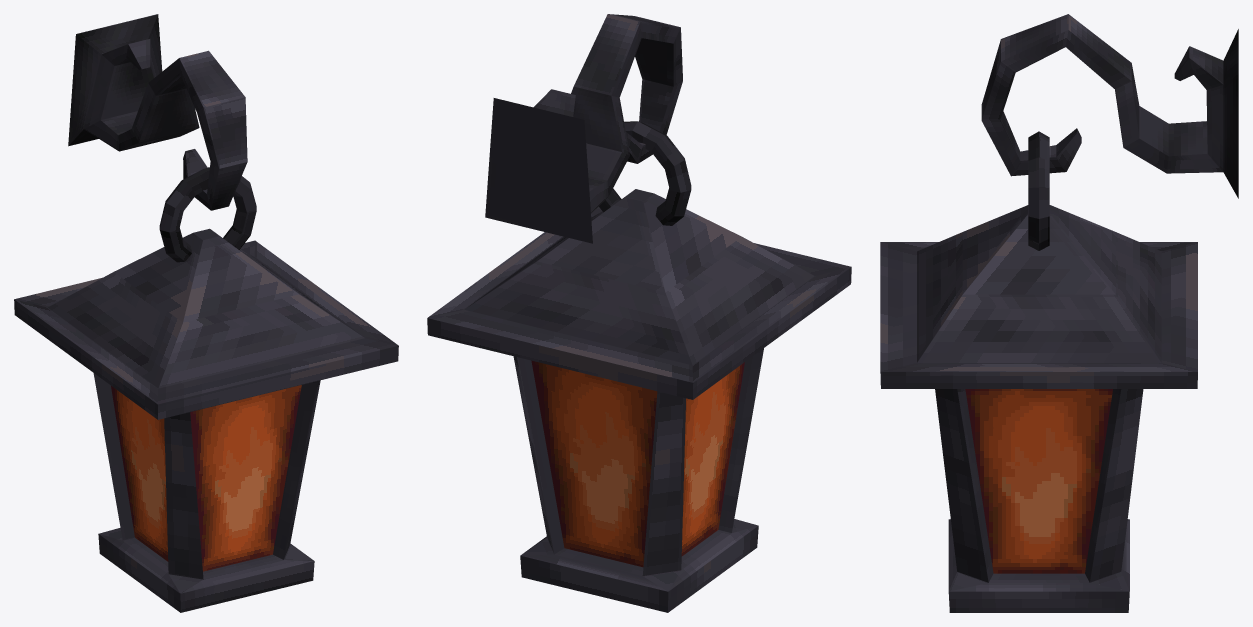
File: tavern_wall_lantern.glb
3 views of the same model, side by side, from view 1: azimuth 30°, elevation 25°; view 2: azimuth 150°, elevation 25°; view 3: azimuth 270°, elevation 25° (orthographic). The views are drawn at different scales.
Parts seen in each view (by area): view 1: tavern_wall_lantern; view 2: tavern_wall_lantern; view 3: tavern_wall_lantern.
Boxes of the visible parts, x1,y1,x2,y2 form: tavern_wall_lantern: (14,14,398,612); tavern_wall_lantern: (427,14,851,612); tavern_wall_lantern: (880,14,1238,612).
Size of the model in its own units: 0.4361 by 0.8695 by 0.5078.
1 material, 1 textured.
